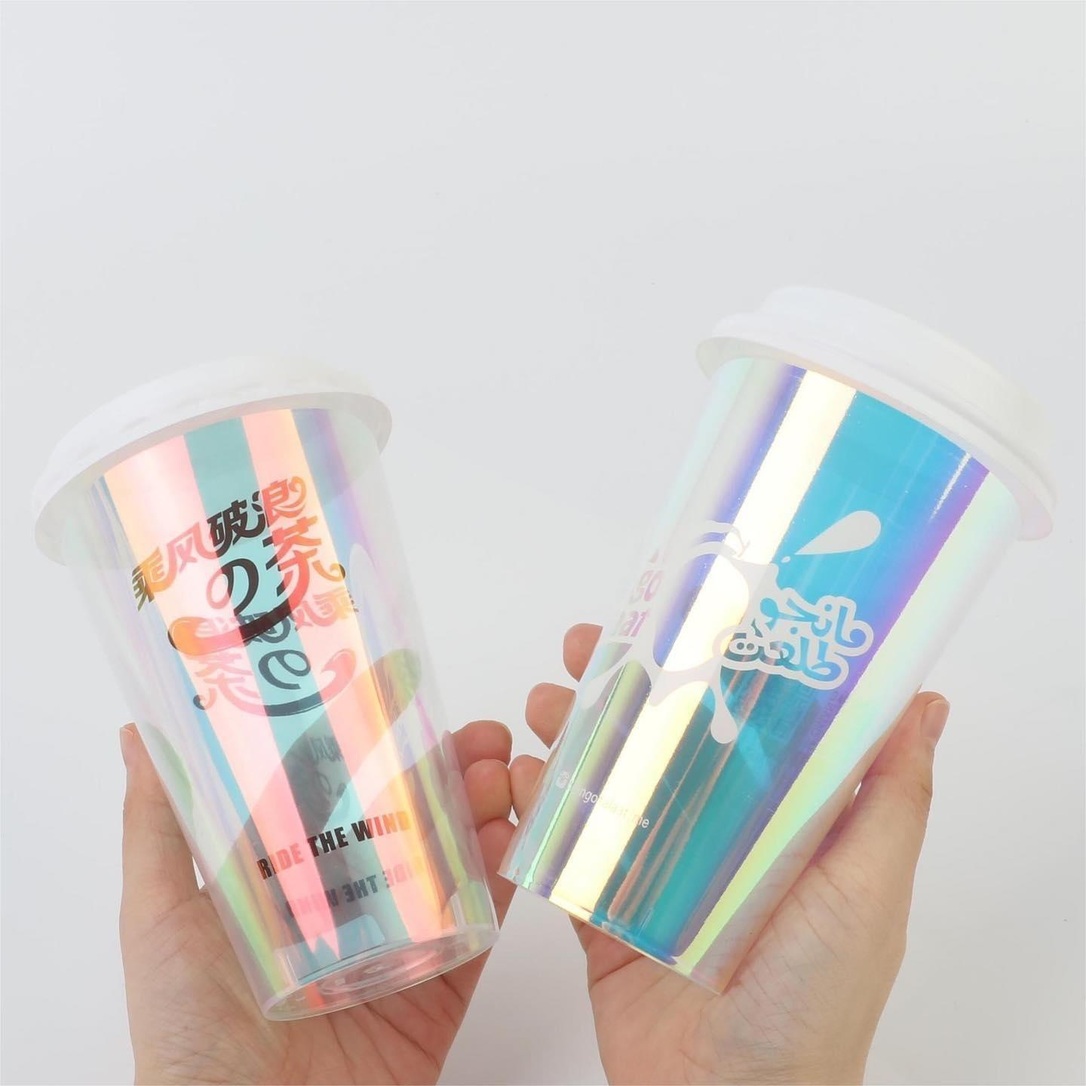cup-disposable: (489, 280, 1073, 1005), (3, 345, 502, 1035)
